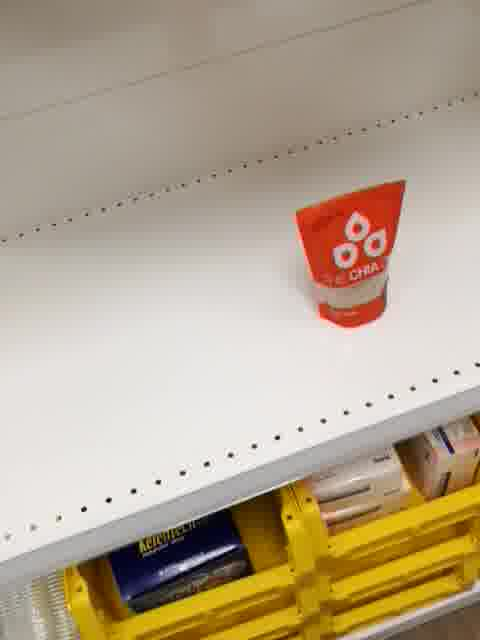whitechia: (293, 178, 409, 332)
